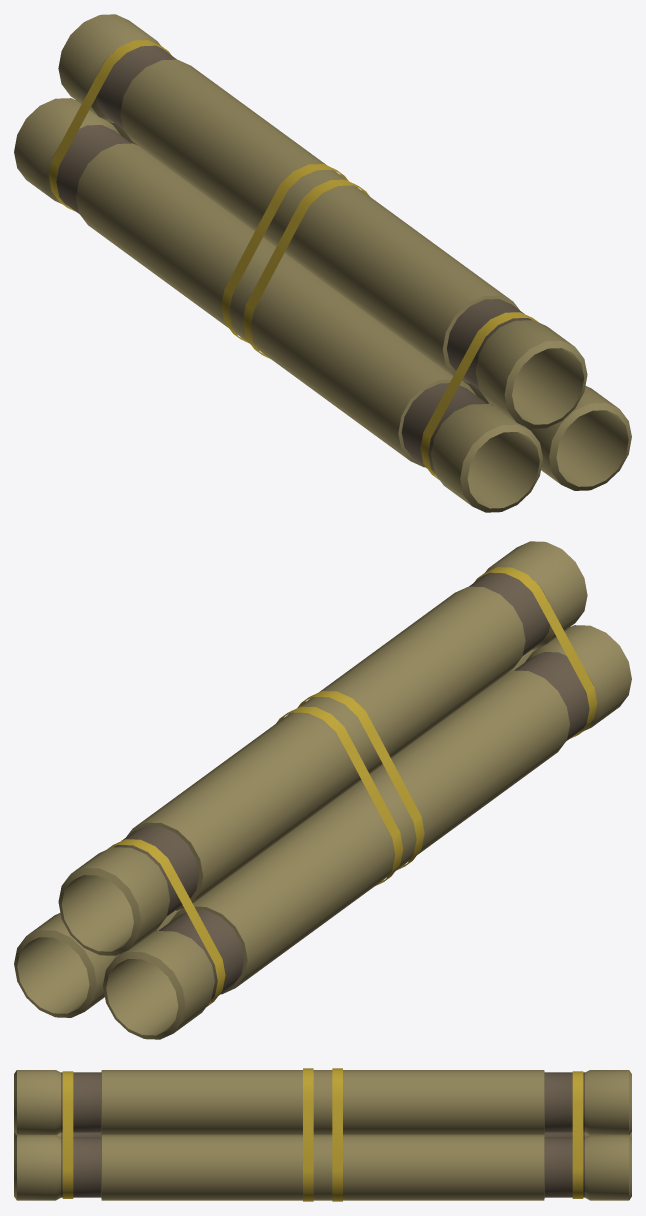
Rendered from prop_pipes.glb.
3 renders of one model, top to bottom at view 1: azimuth 30°, elevation 25°; view 2: azimuth 150°, elevation 25°; view 3: azimuth 270°, elevation 25°, orthographic. The views are drawn at different scales.
Visible parts, largest first — view 1: Pipes; view 2: Pipes; view 3: Pipes.
Boxes of the visible parts, x1=… form: Pipes: x1=14, y1=14, x2=631, y2=512; Pipes: x1=14, y1=541, x2=631, y2=1039; Pipes: x1=14, y1=1068, x2=631, y2=1201.
Bounding box in the file's own units: 0.7482 × 0.6713 × 3.36.
Materials: 1 (1 with a texture image).
